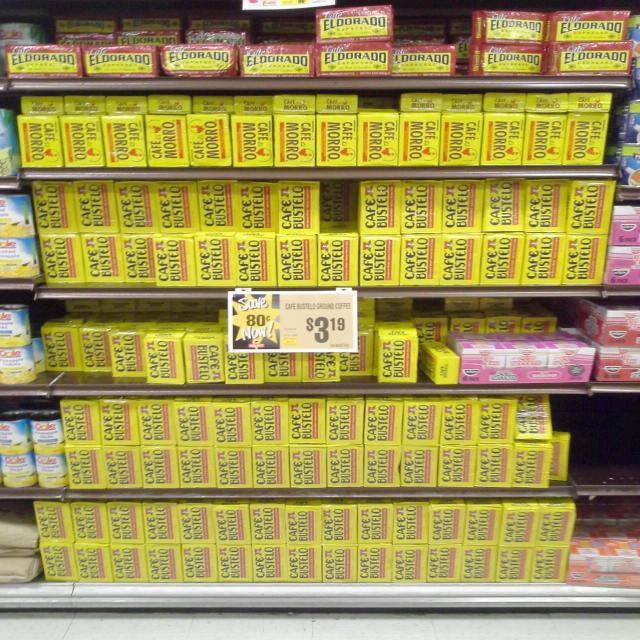empty_space: (580, 408, 640, 488)
